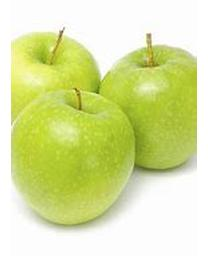apple: (10, 88, 135, 226), (98, 33, 196, 170), (10, 27, 100, 123)
